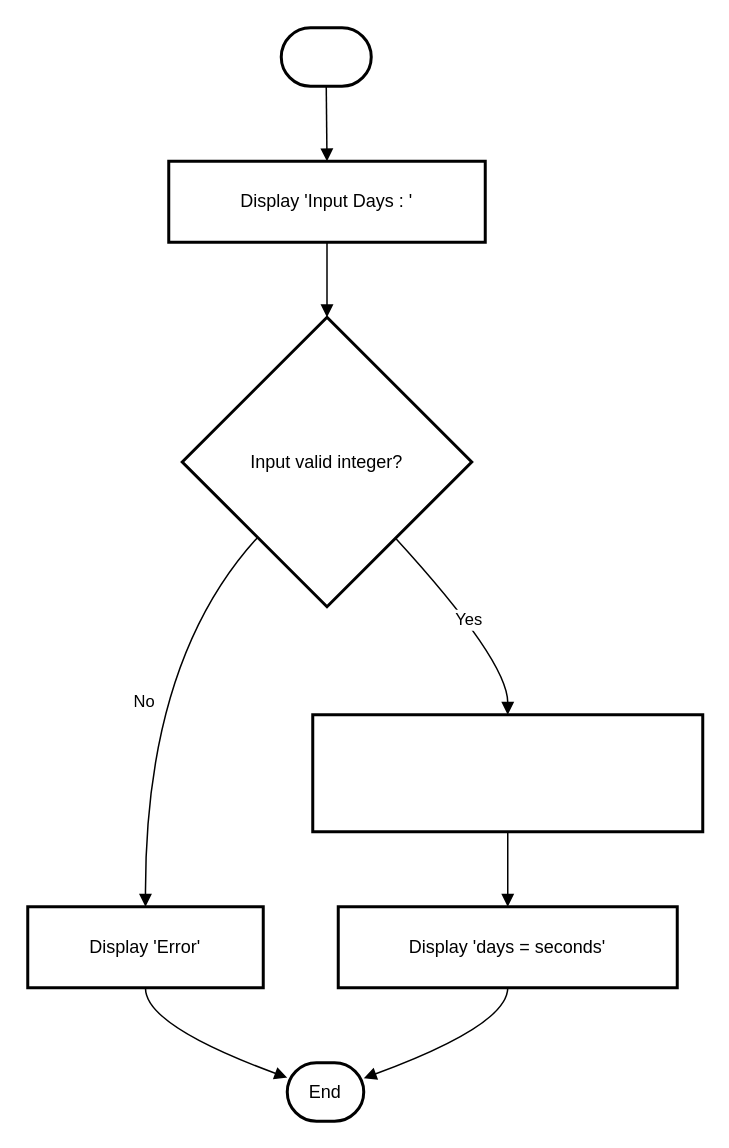
Some shapes in this 729 by 1148 pixel diagram are drawn without their labels. Here are the shapes that lost their labels. From the top down, the box of each, then its label:
(279, 26, 372, 87): Start
(310, 712, 704, 832): Calculate seconds = days * 86400
